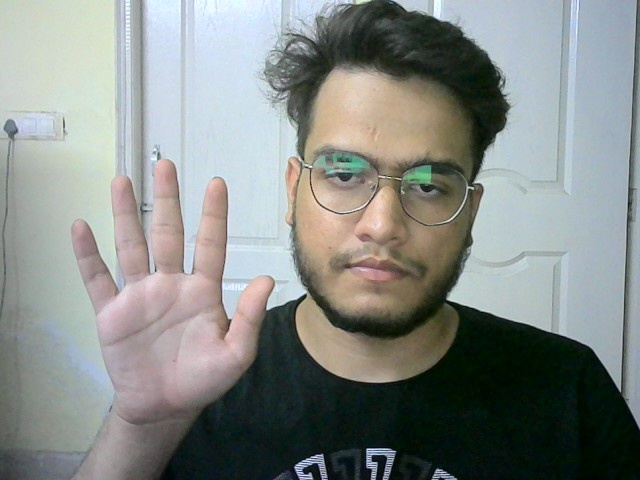Hello: (67, 158, 272, 412)
